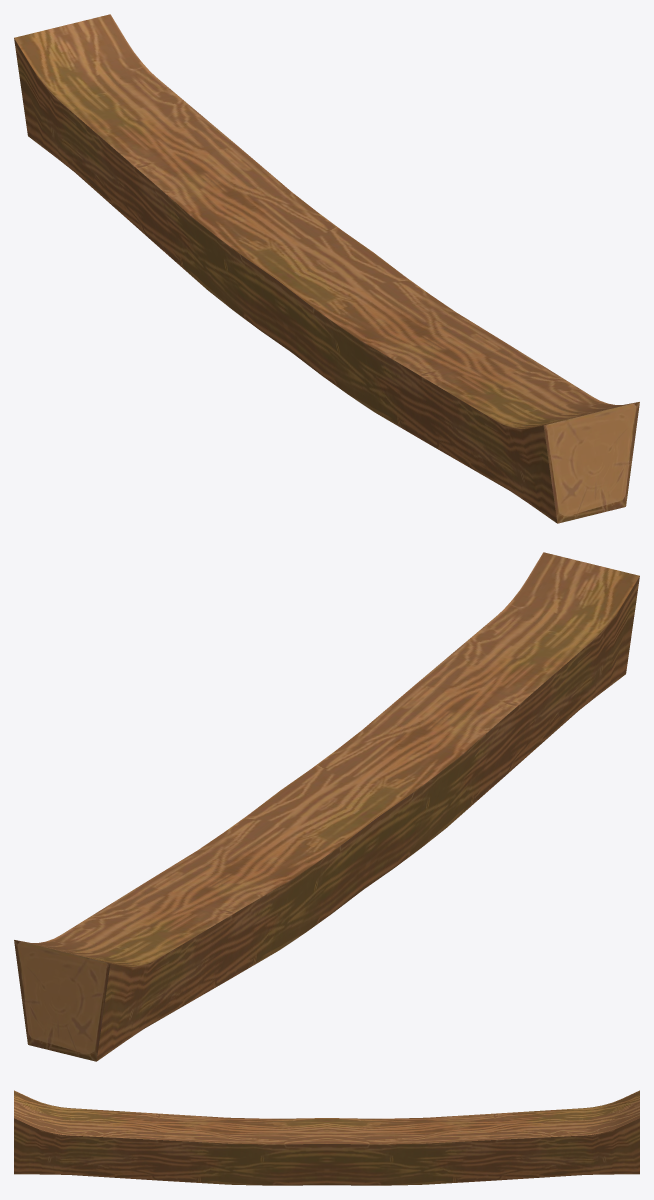
The model's file is Roof_Log.glb.
3 renders of one model, top to bottom at view 1: azimuth 30°, elevation 25°; view 2: azimuth 150°, elevation 25°; view 3: azimuth 270°, elevation 25°, orthographic. The views are drawn at different scales.
Visible parts, largest first — view 1: Roof_Log; view 2: Roof_Log; view 3: Roof_Log.
Part boxes in pixels (x1,y1,x2,y2): Roof_Log: (14, 14, 639, 523); Roof_Log: (14, 552, 639, 1061); Roof_Log: (14, 1090, 639, 1185).
Size of the model in its own units: 1.15 by 1.39 by 10.7.
Materials: 1 (1 with a texture image).
